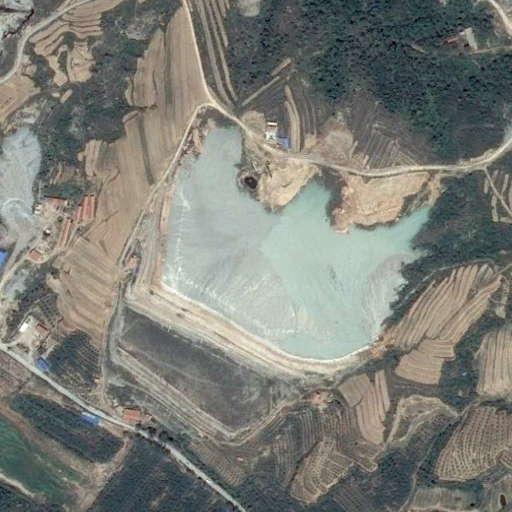tp: (108, 115, 434, 436)
